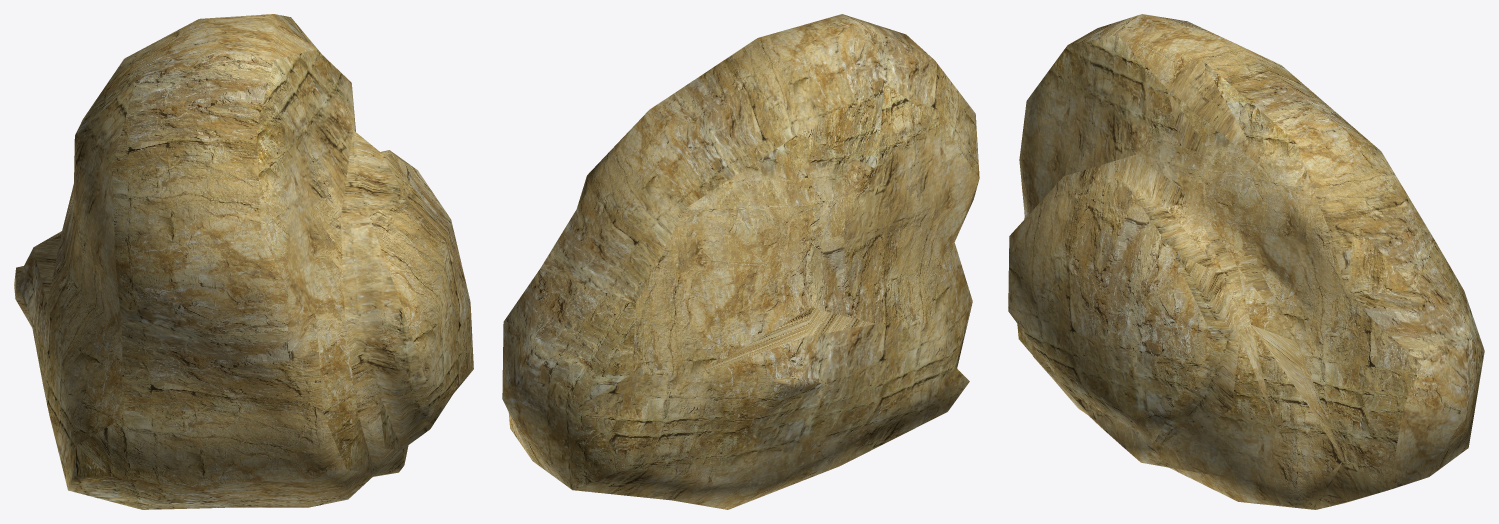
Rendered from Boulder2.dae.
The picture shows the model from 3 angles, left to right: view 1: azimuth 30°, elevation 25°; view 2: azimuth 150°, elevation 25°; view 3: azimuth 270°, elevation 25°; orthographic projection. The views are drawn at different scales.
Visible parts, largest first — view 1: rock0; view 2: rock0; view 3: rock0.
Part boxes in pixels (x1,y1,x2,y2): rock0: [14, 14, 473, 509]; rock0: [502, 14, 979, 509]; rock0: [1008, 14, 1484, 509].
Bounding box in the file's own units: 1.41 × 1.71 × 1.65.
